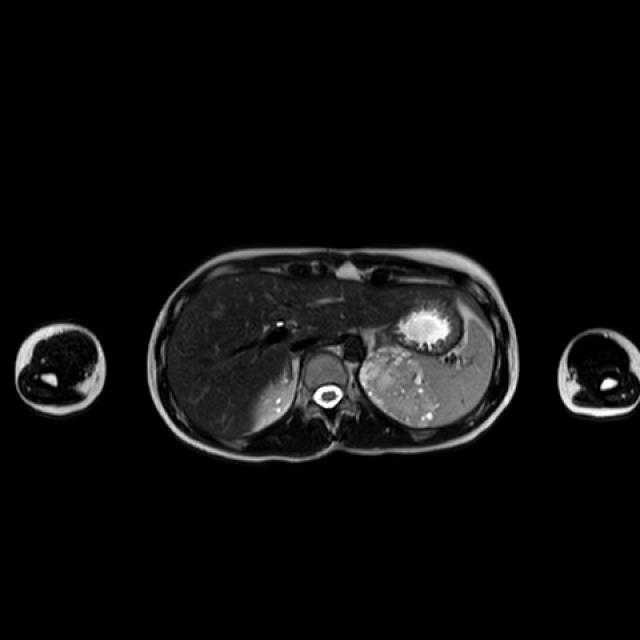sag: (255, 384, 295, 430)
sol: (361, 349, 438, 426)
